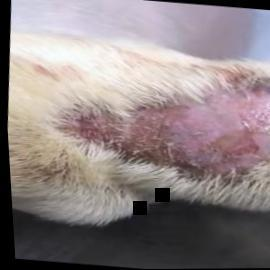skin_lesions: (64, 56, 270, 191)
